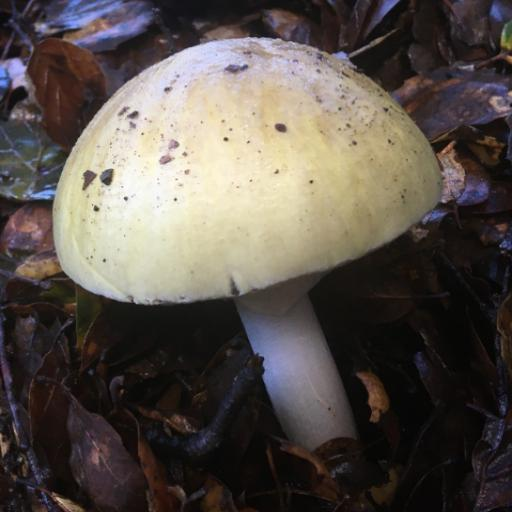mushroom: (8, 0, 487, 472)
